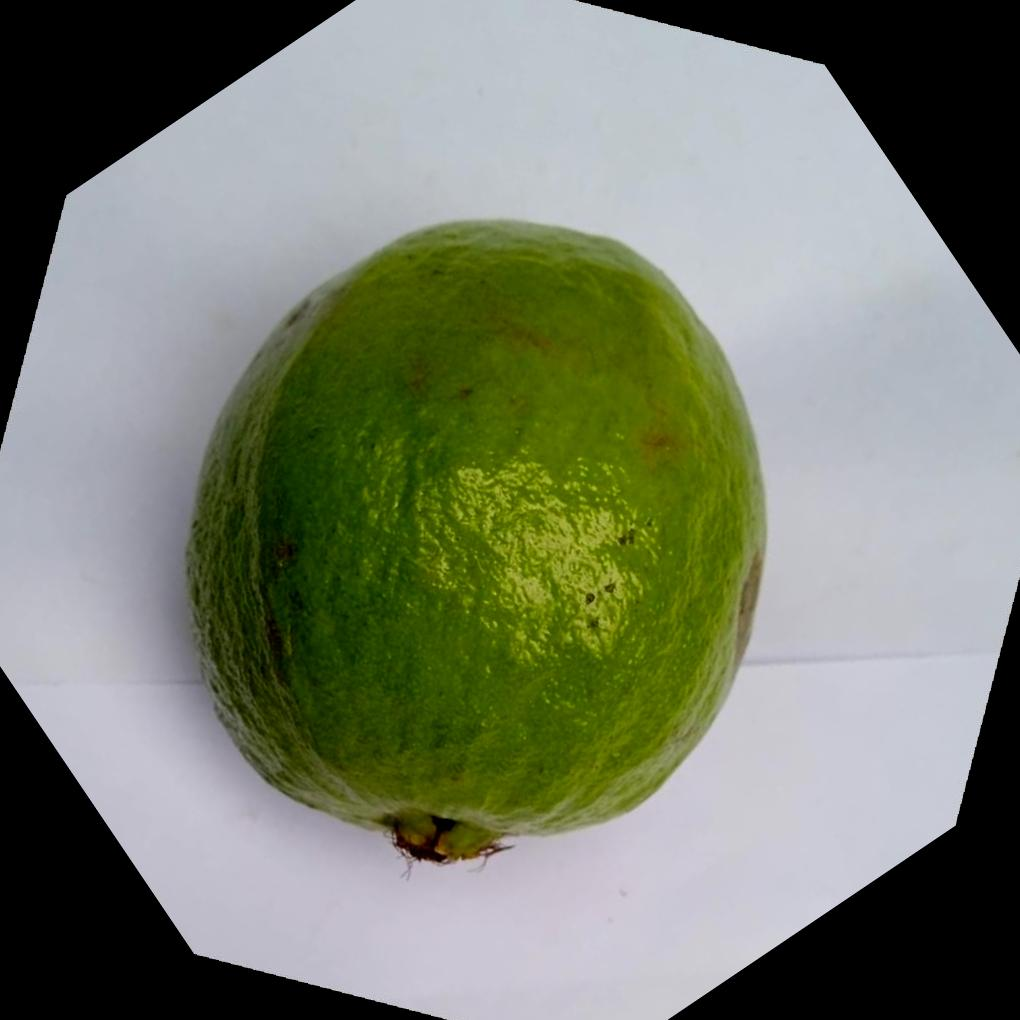FreshGuava: (184, 218, 770, 863)
